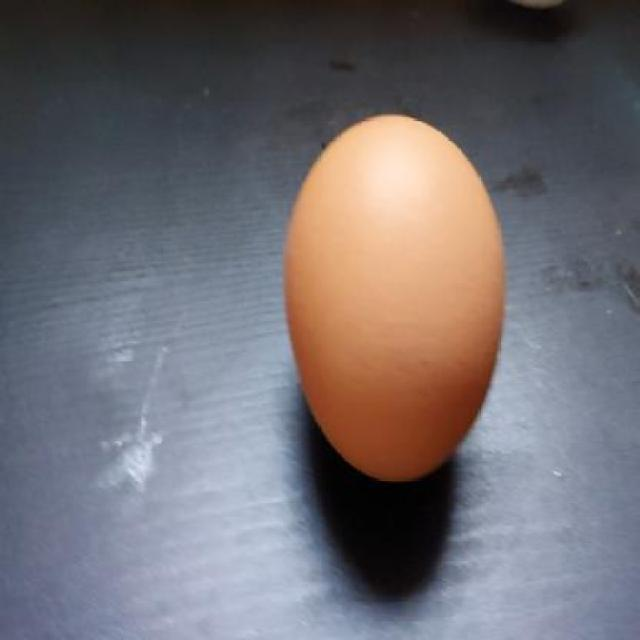biodegradable: (281, 113, 510, 489)
